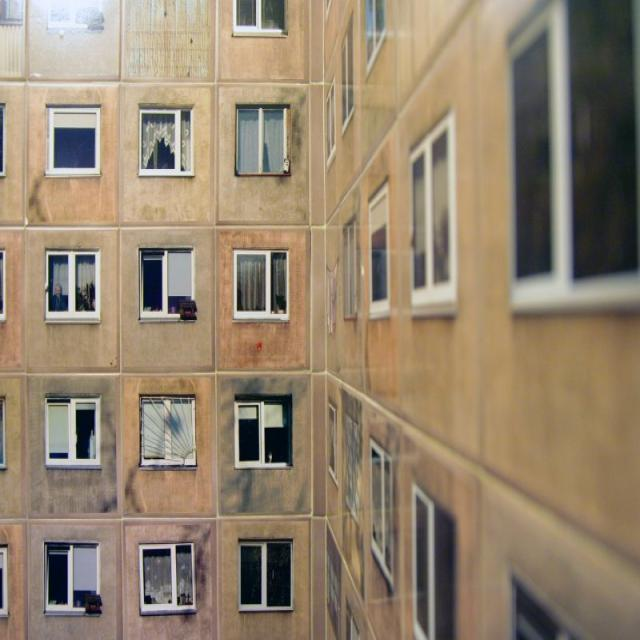Window: (512, 15, 626, 266), (411, 157, 458, 297), (413, 498, 443, 630), (44, 248, 98, 312), (141, 254, 197, 315), (234, 403, 290, 461), (238, 110, 288, 174), (140, 403, 190, 466), (46, 402, 98, 462), (46, 548, 97, 609), (49, 108, 97, 172), (142, 112, 190, 172), (238, 548, 288, 603), (143, 548, 191, 604), (236, 256, 285, 310), (371, 446, 389, 564), (366, 201, 388, 294), (237, 5, 290, 36), (339, 42, 358, 105), (344, 234, 357, 319), (44, 4, 102, 22), (362, 4, 389, 36), (320, 94, 332, 146), (1, 0, 21, 23), (328, 412, 334, 474), (1, 552, 6, 606), (1, 399, 4, 464), (1, 254, 4, 314)
